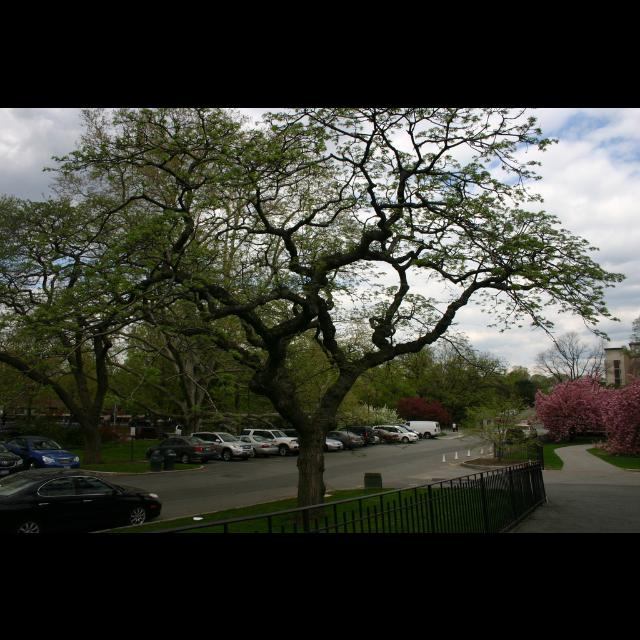Flower: (520, 376, 640, 460)
